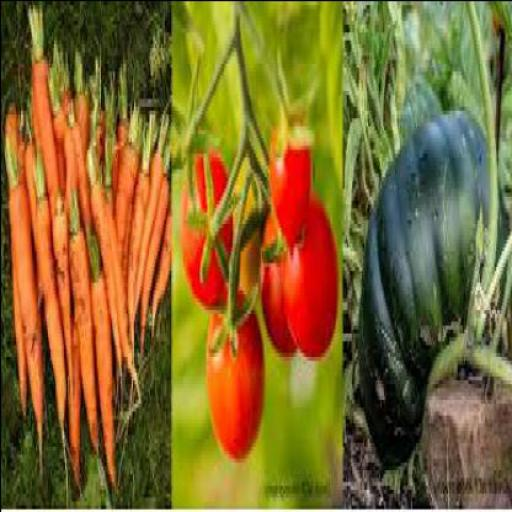biodegradable: (359, 101, 505, 465), (2, 132, 44, 477), (208, 281, 266, 454), (283, 188, 340, 360), (88, 140, 124, 399), (105, 129, 141, 387), (36, 140, 65, 426), (70, 180, 101, 446), (181, 148, 233, 305), (87, 222, 117, 488), (138, 129, 172, 356), (128, 102, 156, 356), (134, 109, 169, 309), (28, 1, 59, 208), (234, 137, 274, 293), (261, 195, 298, 360), (7, 98, 26, 410), (270, 113, 312, 246), (114, 98, 146, 238), (25, 97, 45, 309), (55, 184, 72, 402), (62, 102, 89, 227), (152, 203, 172, 332), (48, 54, 68, 160), (69, 309, 81, 485), (74, 39, 90, 137), (89, 50, 105, 136), (54, 40, 72, 114), (105, 58, 121, 138), (62, 114, 76, 200), (117, 62, 130, 136)
